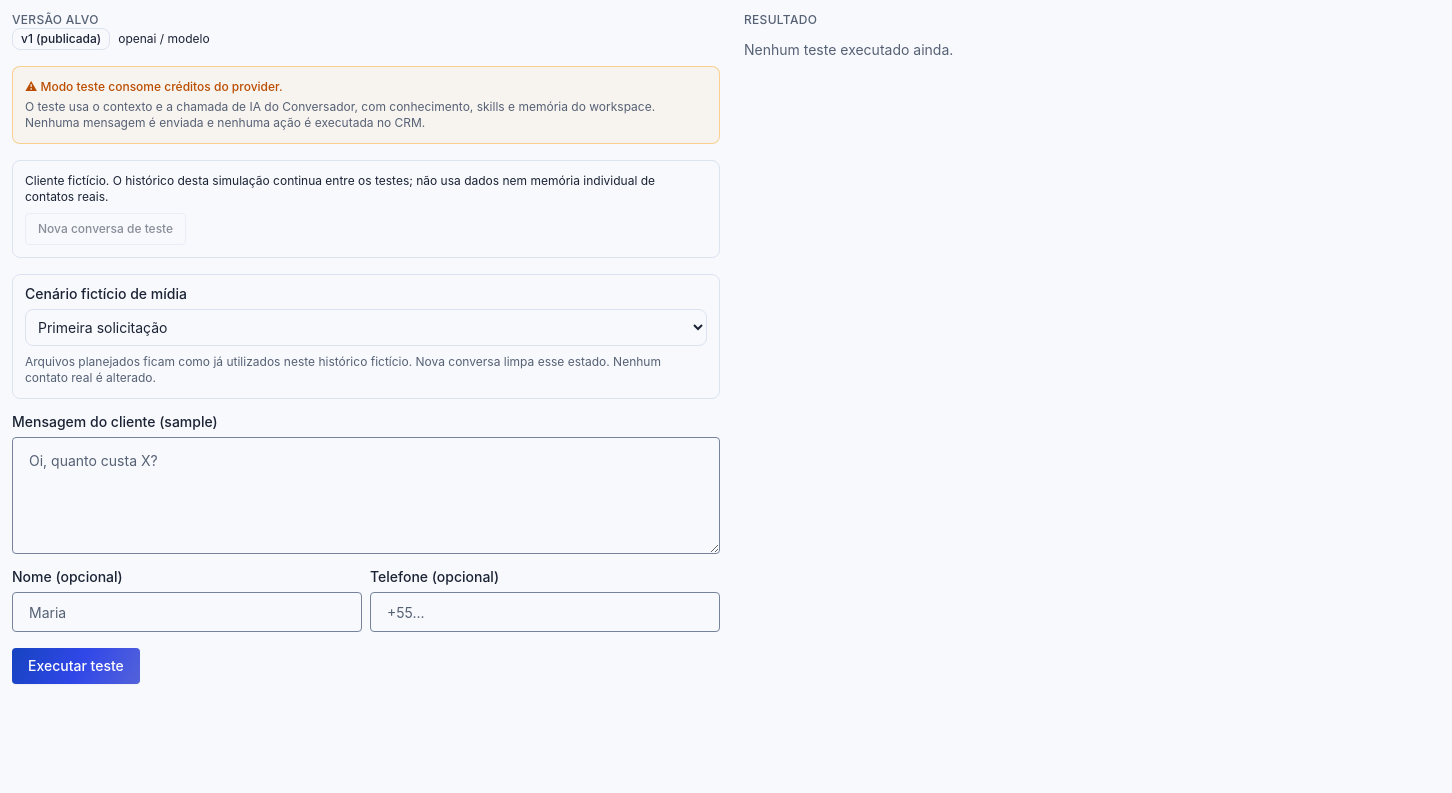
continua o histórico simulado e Nova conversa elimina contexto anterior
Type "Quero organizar obras" into the text box labelled "Mensagem do cliente (sample)".
click(366, 496); type("Quero organizar obras")  # box [12, 437, 720, 554]
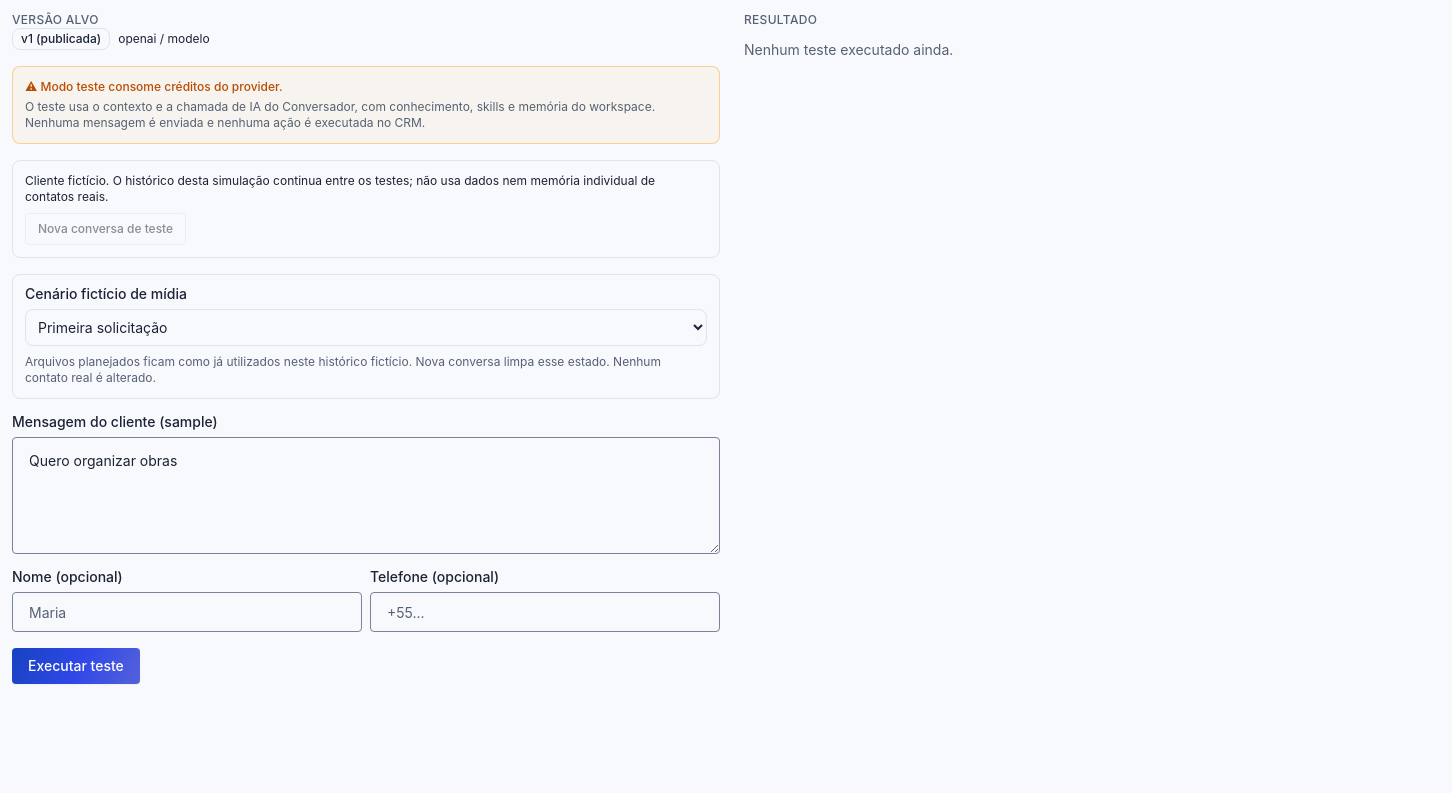
Click the button "Executar teste".
click(76, 666)  # box [12, 648, 140, 684]
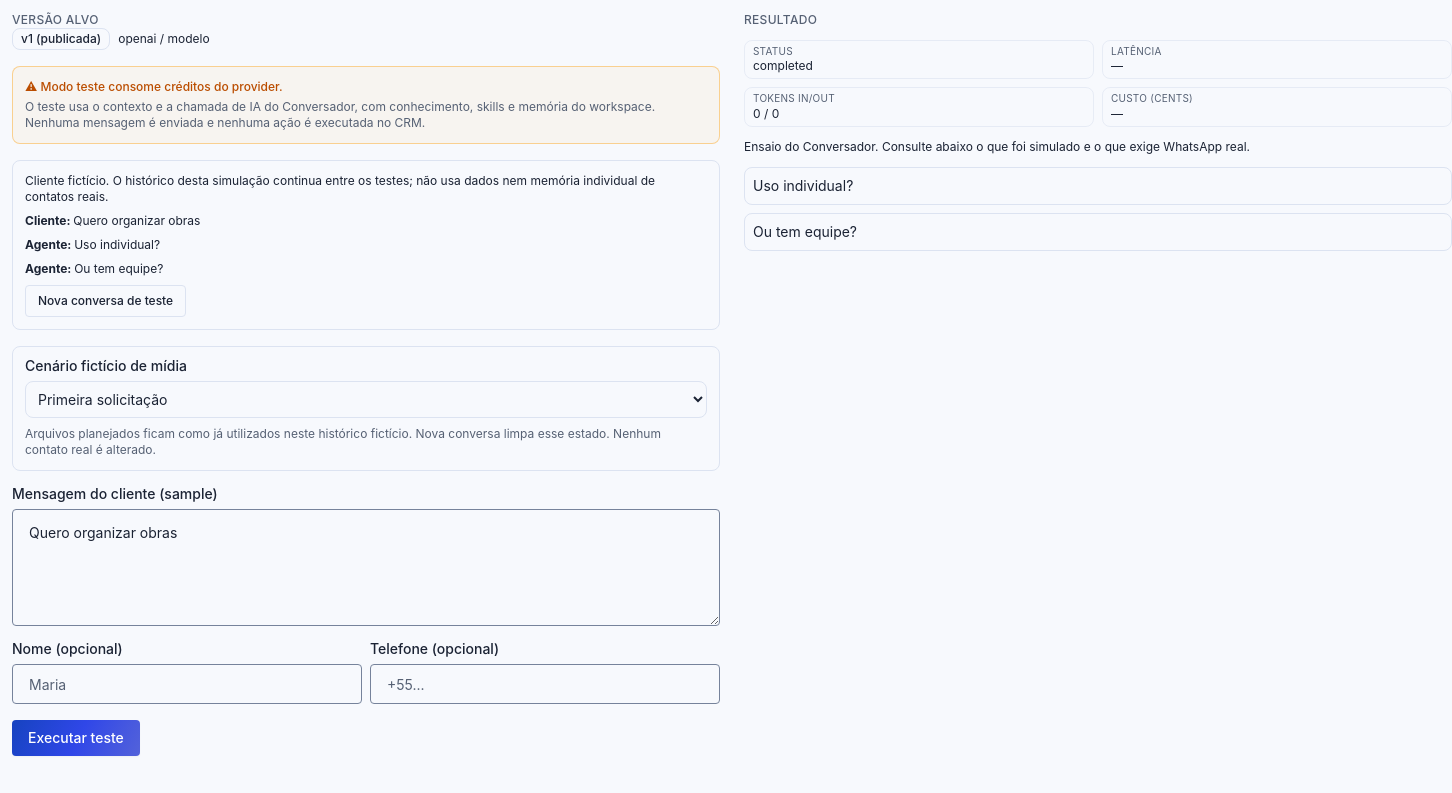
Expected: the element with test id "test-message-bubbles" is shown, [744, 167, 1451, 251]
Replace the text in the text box labelled "Mensagem do cliente (sample)" with "Tenho equipe" at (366, 568), box [12, 509, 720, 626]
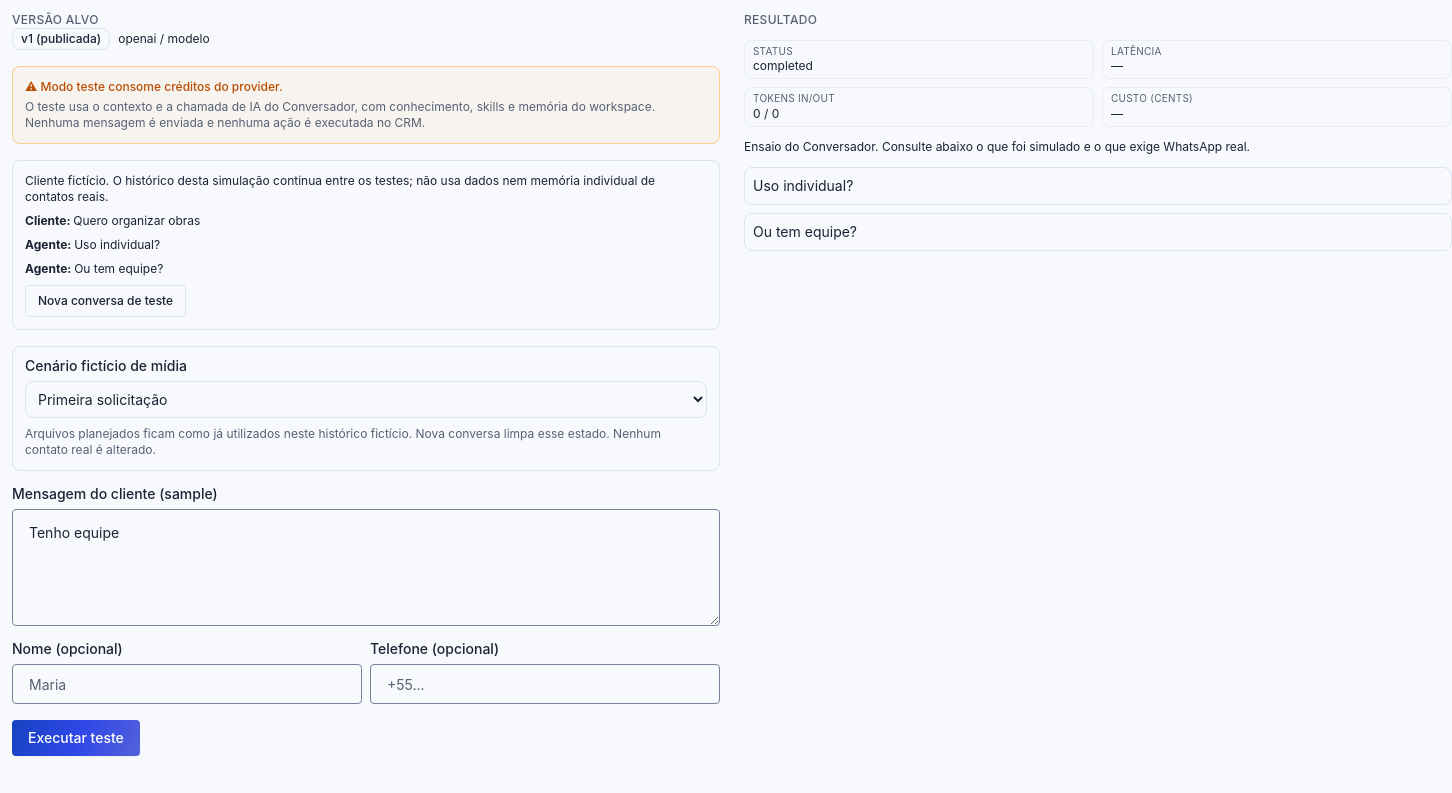
Click the button "Executar teste".
click(76, 738)  # box [12, 720, 140, 756]
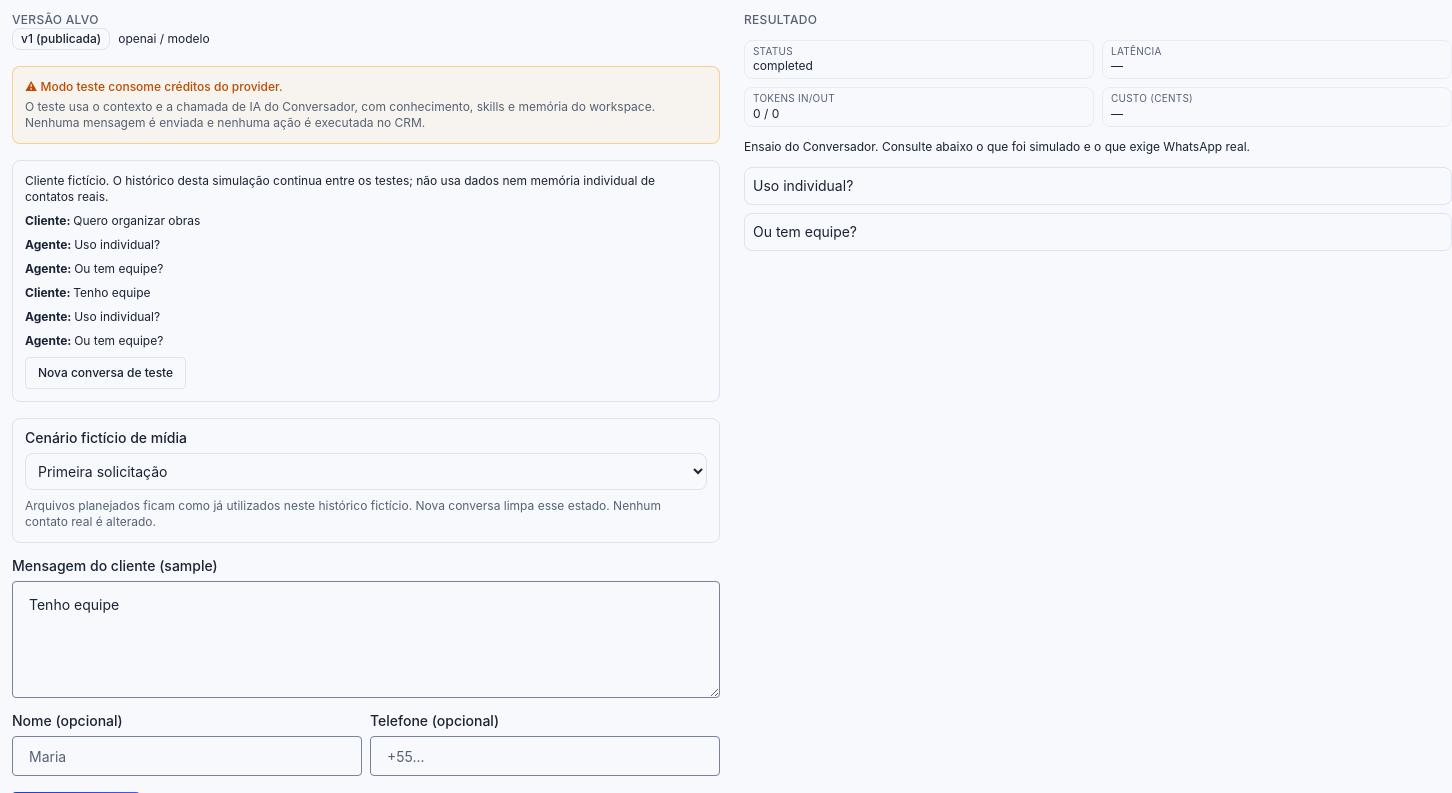
Expected: the button "Nova conversa de teste" is enabled
Click the button "Nova conversa de teste".
click(106, 373)  # box [25, 357, 186, 389]
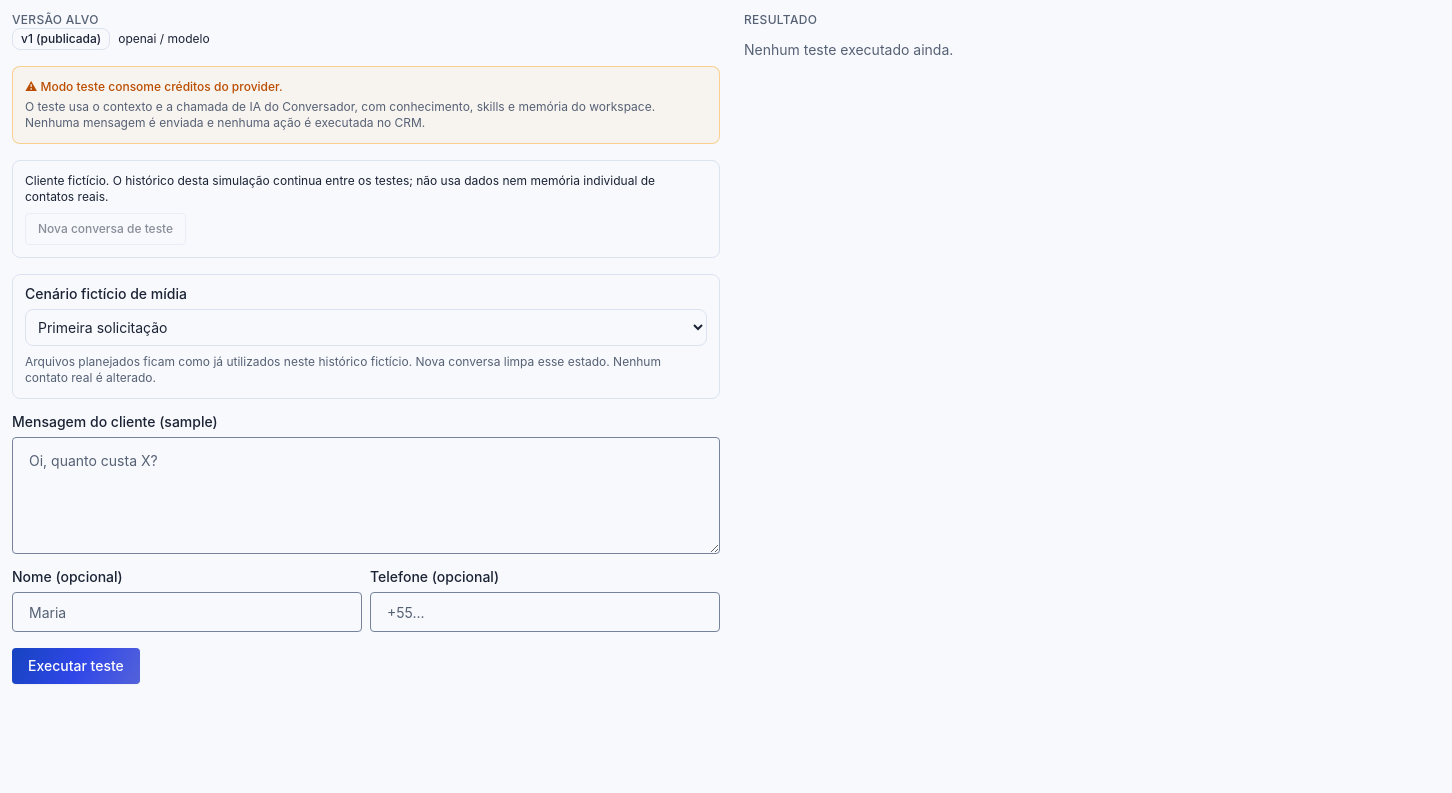
Expected: the element with test id "test-conversation-history" no longer shows "Quero organizar obras", [12, 160, 720, 258]
